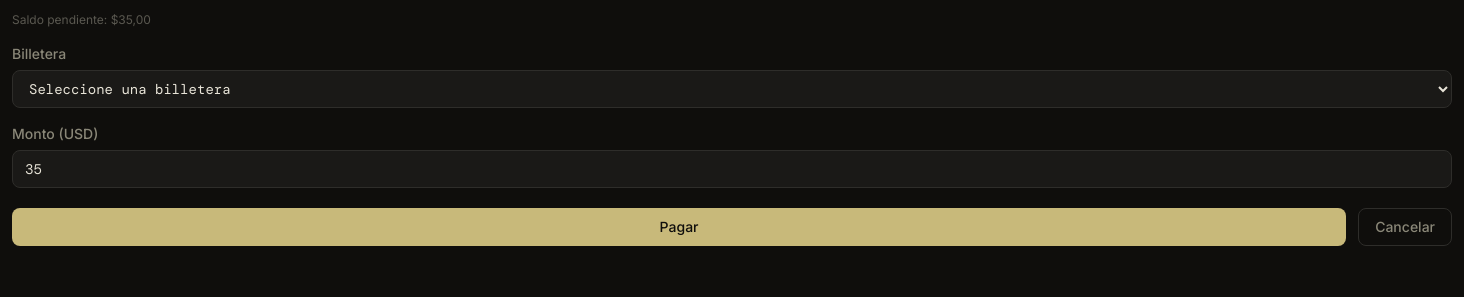
PayCreditCardForm › shows a validation error without a selected wallet
This screenshot has width=1464, height=297.
Click the button "Pagar". click: (679, 227)
box: [12,208,1346,246]
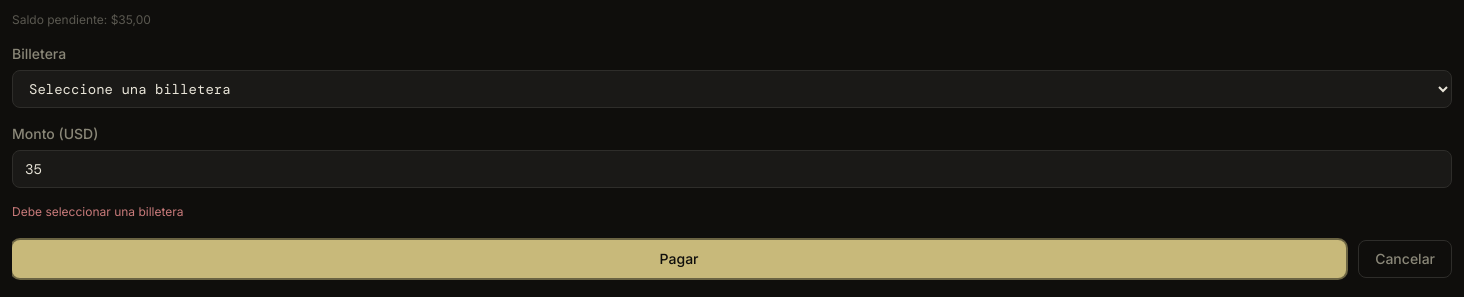
Expected: the text "Debe seleccionar una billetera" is shown, [12,204,184,219]
